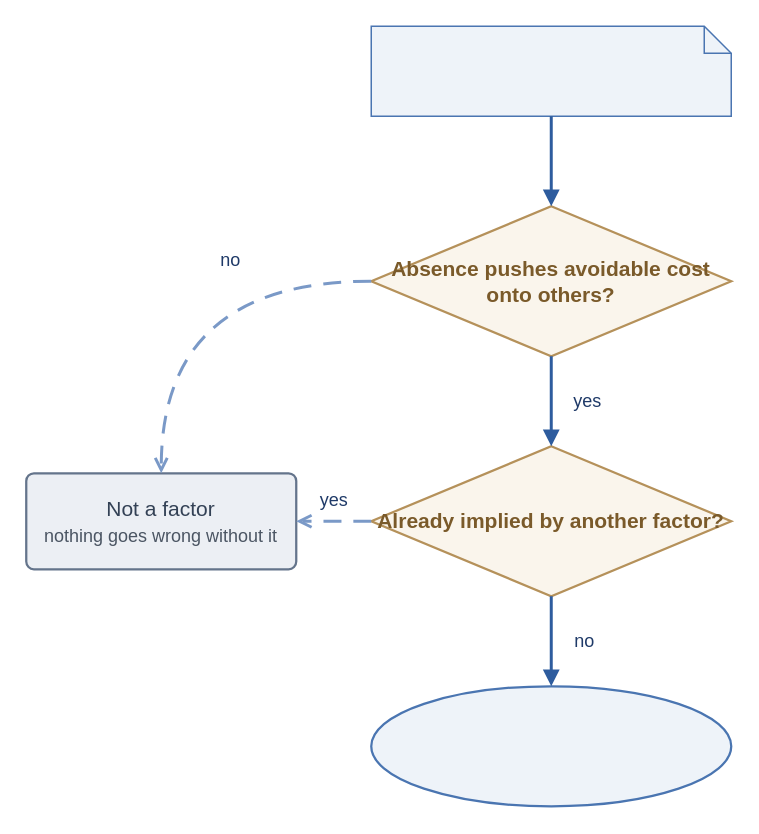
This 759x834 diagram has some shape labels left out. Here are the shapes that lost their labels. From the top down, the centre of each, then its label:
At point (550, 70): "Candidate property".
At point (550, 745): "A factor named by the cost of its absence".
